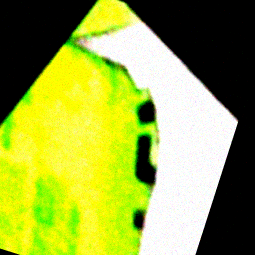vinyl_s: (1, 6, 176, 255)
